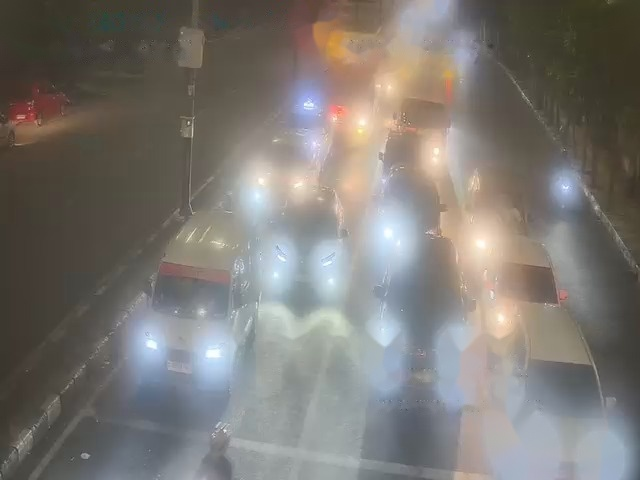Mobil: (156, 206, 244, 373), (514, 305, 608, 458), (386, 231, 466, 397), (279, 188, 348, 281), (486, 244, 554, 334), (364, 170, 449, 232), (249, 112, 312, 193), (460, 164, 522, 241), (10, 75, 72, 126), (284, 94, 330, 149), (376, 129, 423, 172)
Motor: (548, 146, 576, 202)
Truk: (390, 62, 453, 162), (324, 52, 373, 135)
